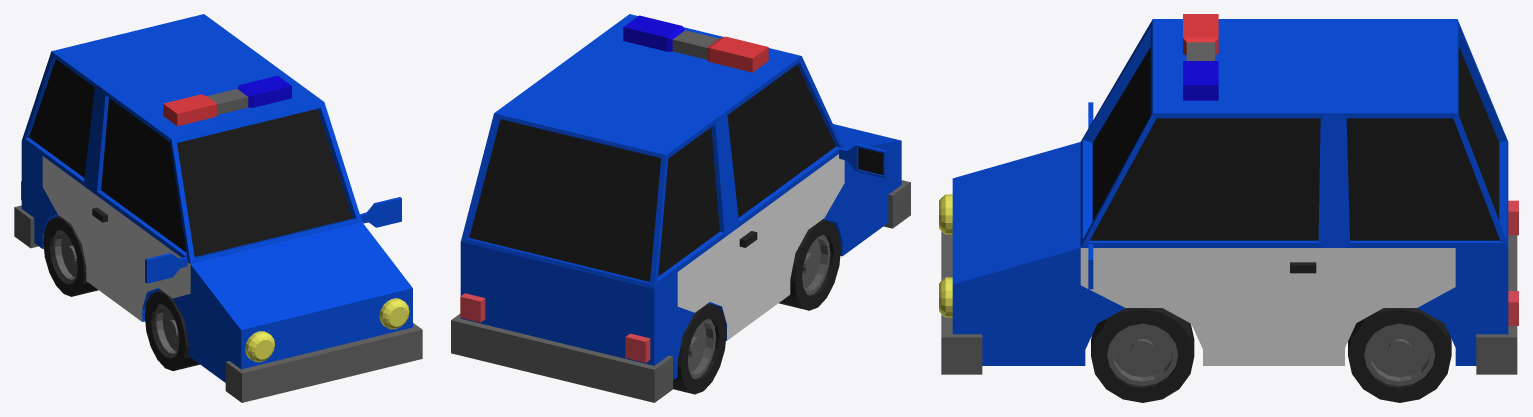
File: car04.fbx
3 views of the same model, side by side, from view 1: azimuth 30°, elevation 25°; view 2: azimuth 150°, elevation 25°; view 3: azimuth 270°, elevation 25° (orthographic). The views are drawn at different scales.
Visible parts, largest first — view 1: Cube.049; view 2: Cube.049; view 3: Cube.049.
Part boxes in pixels (bbox=[...]): Cube.049: bbox=[14, 14, 422, 402]; Cube.049: bbox=[451, 14, 910, 402]; Cube.049: bbox=[939, 14, 1518, 402].
Bounding box in the file's own units: 323 × 286 × 502.
